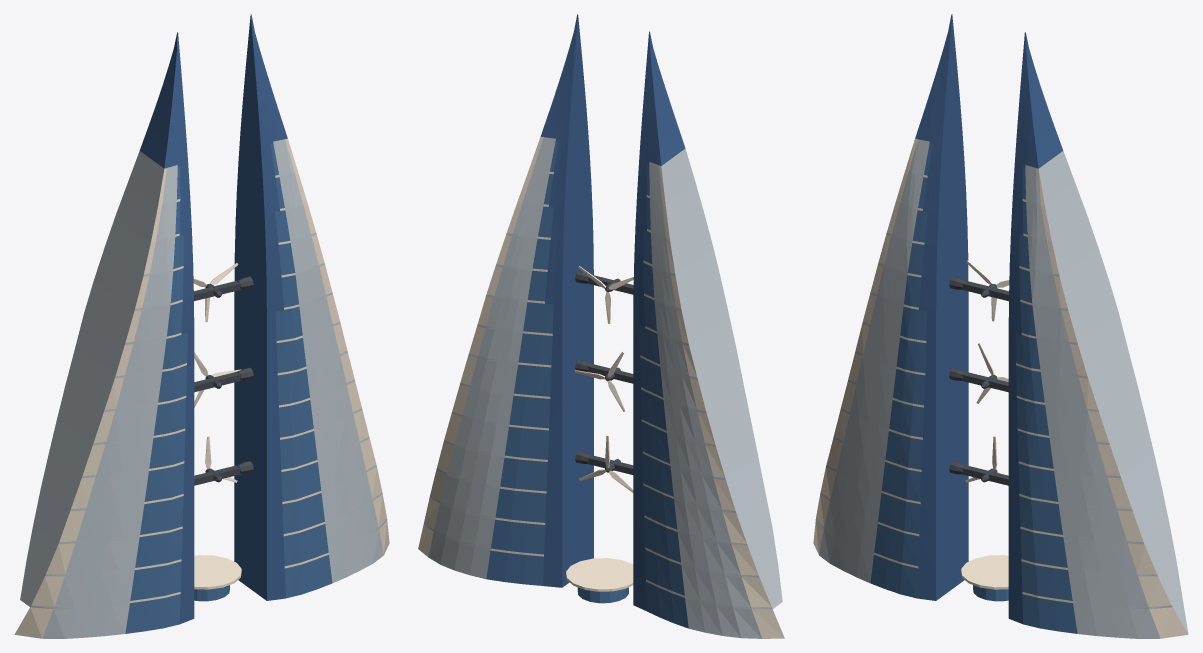
The model's file is manama-bahrain-world-trade-center.glb.
The picture shows the model from 3 angles, left to right: view 1: azimuth 30°, elevation 25°; view 2: azimuth 150°, elevation 25°; view 3: azimuth 330°, elevation 25°; orthographic projection. The views are drawn at different scales.
Visible parts, largest first — view 1: Bahrain World Trade Center; view 2: Bahrain World Trade Center; view 3: Bahrain World Trade Center.
Boxes of the visible parts, x1,y1,x2,y2 form: Bahrain World Trade Center: [14, 14, 389, 638]; Bahrain World Trade Center: [418, 14, 784, 638]; Bahrain World Trade Center: [813, 14, 1188, 638].
Size of the model in its own units: 164 by 240 by 36.9.
